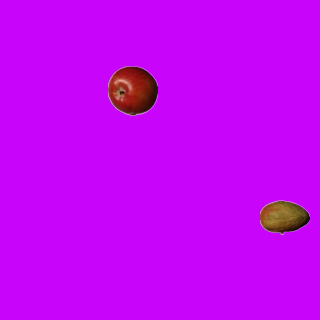Apple Braeburn: (107, 65, 157, 115)
Papaya: (259, 192, 309, 242)
